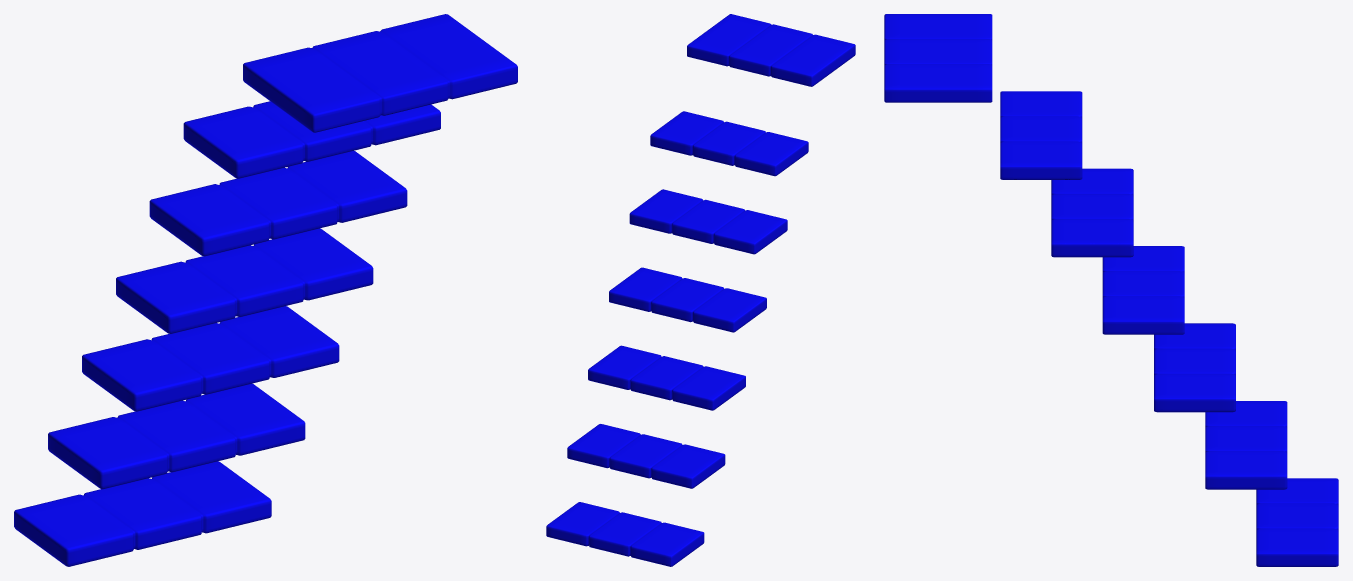
The picture shows the model from 3 angles, left to right: view 1: azimuth 30°, elevation 25°; view 2: azimuth 150°, elevation 25°; view 3: azimuth 270°, elevation 25°; orthographic projection. The views are drawn at different scales.
Parts seen in each view (by area): view 1: Slide; view 2: Slide; view 3: Slide.
Part boxes in pixels (x1,y1,x2,y2): Slide: (14, 14, 517, 566); Slide: (546, 14, 855, 566); Slide: (884, 14, 1338, 566).
Size of the model in its own units: 52.32 by 154 by 133.
1 material, 1 textured.
